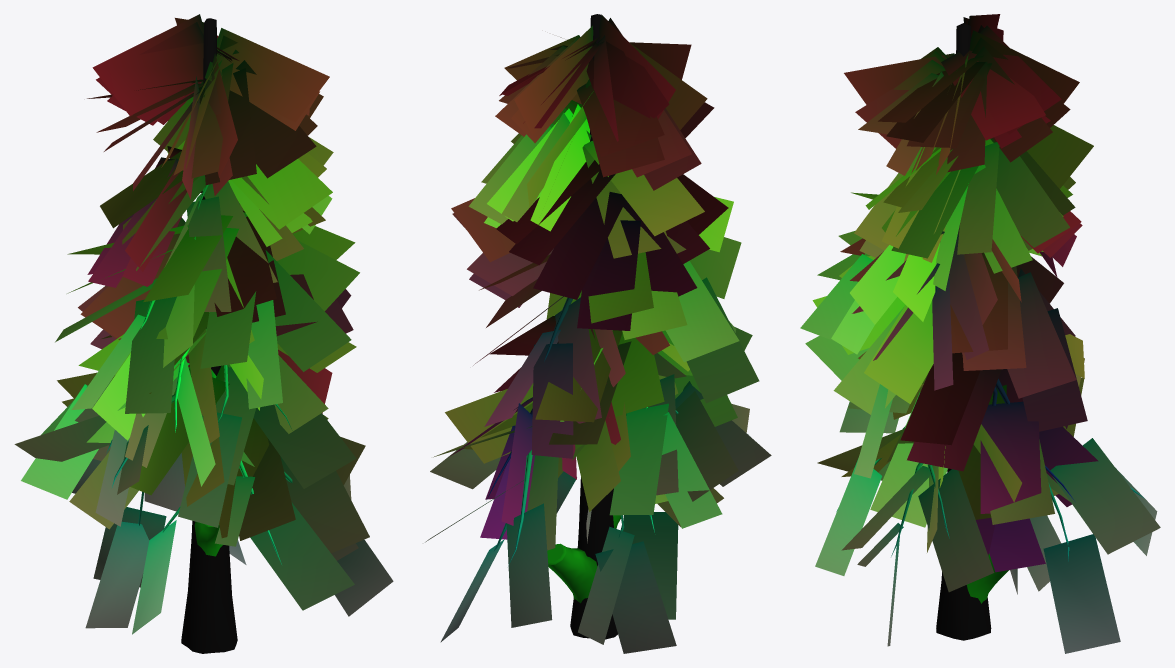
The model's file is M_Pine_3_3.fbx.
3 views of the same model, side by side, from view 1: azimuth 30°, elevation 25°; view 2: azimuth 150°, elevation 25°; view 3: azimuth 270°, elevation 25° (orthographic). The views are drawn at different scales.
Parts seen in each view (by area): view 1: Tree_3; view 2: Tree_3; view 3: Tree_3.
Boxes of the visible parts, bbox=[...] form: Tree_3: bbox=[14, 14, 393, 653]; Tree_3: bbox=[425, 14, 771, 653]; Tree_3: bbox=[800, 14, 1160, 653].
Bounding box in the file's own units: 1505 × 2781 × 1494.
